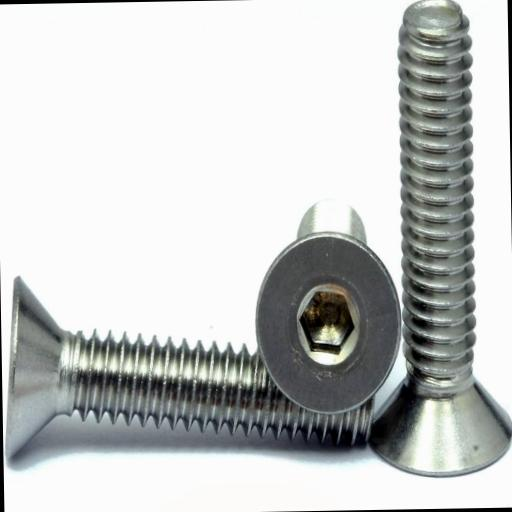Hex-Allen: (252, 230, 402, 416)
